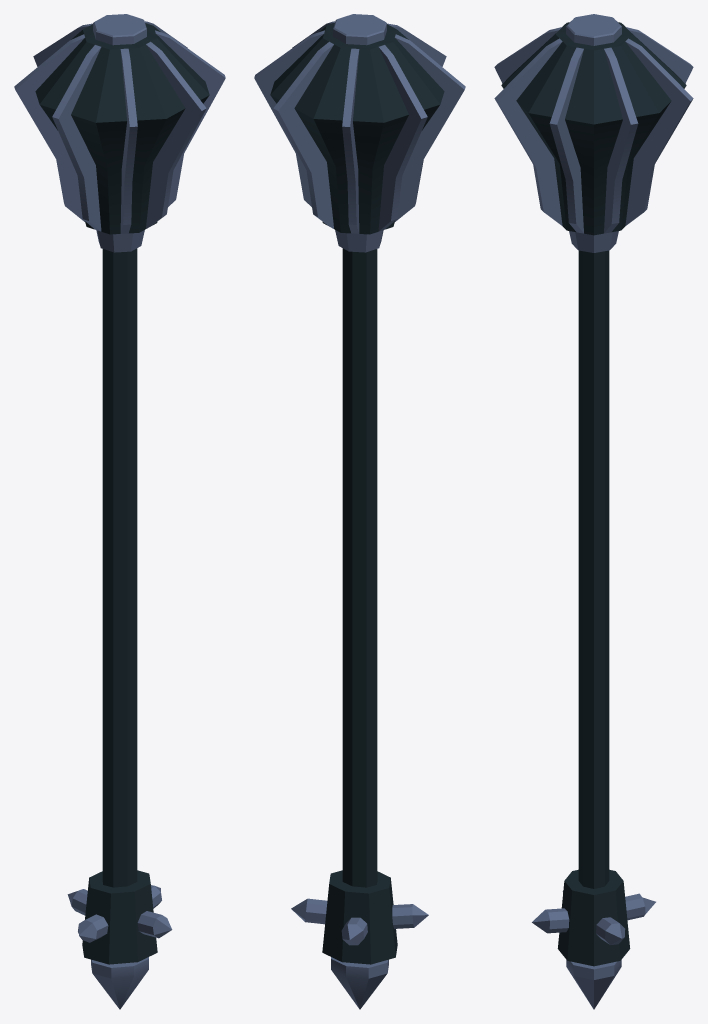
File: Mace_05.fbx
The picture shows the model from 3 angles, left to right: view 1: azimuth 30°, elevation 25°; view 2: azimuth 150°, elevation 25°; view 3: azimuth 270°, elevation 25°; orthographic projection.
Parts seen in each view (by area): view 1: Mace 05; view 2: Mace 05; view 3: Mace 05.
Boxes of the visible parts, x1,y1,x2,y2 form: Mace 05: (14, 14, 225, 1009); Mace 05: (254, 14, 465, 1009); Mace 05: (494, 14, 693, 1009).
Bounding box in the file's own units: 21.69 × 118 × 21.69.
